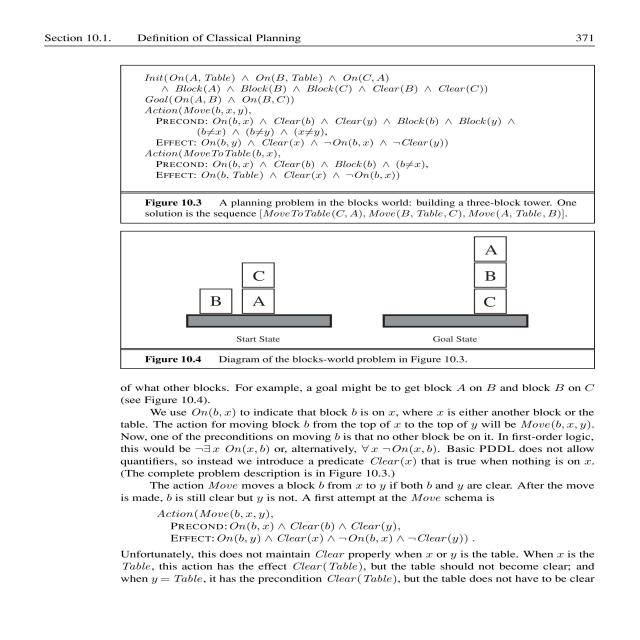diagram: (81, 47, 640, 369)
